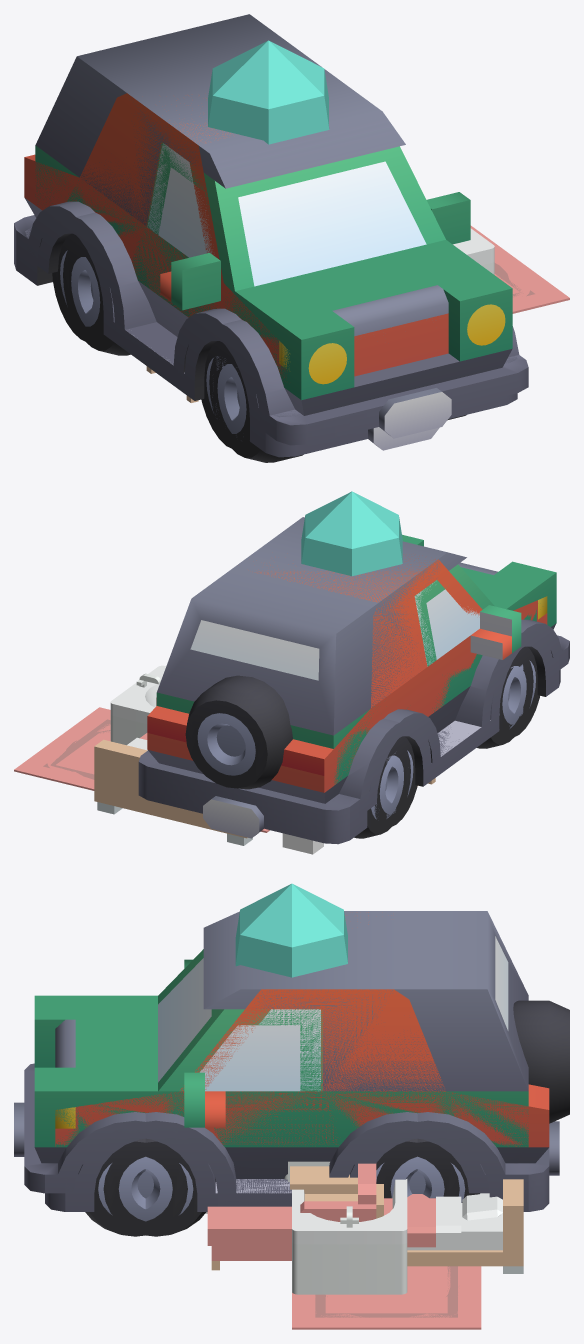
The model's file is maison.glb.
The picture shows the model from 3 angles, top to bottom: view 1: azimuth 30°, elevation 25°; view 2: azimuth 150°, elevation 25°; view 3: azimuth 270°, elevation 25°; orthographic projection. The views are drawn at different scales.
Visible parts, largest first — view 1: body (×2), tree_default, wheel-front-right (×2), wheel-back-right (×2), rugRectangle(Clone), rugRounded(Clone), bathtub(Clone); view 2: body (×2), wheel-back, tree_default, bedDouble(Clone), wheel-back-right (×2), wheel-front-right (×2), rugRectangle(Clone), bathtub(Clone), rugRounded(Clone), bathroomSink(Clone); view 3: body (×2), bathtub(Clone), wheel-front-left (×2), tree_default, rugRectangle(Clone), loungeSofaLong(Clone), bedDouble(Clone), wheel-back, wheel-back-left (×2), cover, rugRounded(Clone), desk(Clone) (+2 smaller).
Boxes of the visible parts, x1,y1,x2,y2 form: body (×2): (14, 14, 528, 457); tree_default: (208, 40, 329, 144); wheel-front-right (×2): (201, 341, 303, 462); wheel-back-right (×2): (52, 233, 130, 355); rugRectangle(Clone): (470, 225, 569, 313); rugRounded(Clone): (494, 249, 532, 305); bathtub(Clone): (453, 228, 494, 274); body (×2): (138, 517, 569, 844); wheel-back: (185, 675, 292, 789); tree_default: (301, 491, 402, 576); bedDouble(Clone): (94, 739, 252, 845); wheel-back-right (×2): (354, 736, 417, 838); wheel-front-right (×2): (477, 646, 539, 748); rugRectangle(Clone): (14, 707, 269, 832); bathtub(Clone): (110, 665, 166, 745); rugRounded(Clone): (45, 724, 110, 790); bathroomSink(Clone): (282, 833, 323, 854); body (×2): (14, 911, 559, 1211); bathtub(Clone): (292, 1179, 407, 1294); wheel-front-left (×2): (85, 1138, 215, 1236); tree_default: (235, 883, 347, 977); rugRectangle(Clone): (292, 1266, 481, 1329); loungeSofaLong(Clone): (207, 1163, 376, 1270); bedDouble(Clone): (407, 1179, 523, 1273); wheel-back: (513, 1000, 569, 1123); wheel-back-left (×2): (376, 1138, 479, 1202); cover: (384, 1194, 461, 1247); rugRounded(Clone): (295, 1266, 478, 1327); desk(Clone): (290, 1166, 357, 1193).
Bounding box in the file's own units: 2.32 × 2.06 × 2.7.
Materials: 25 (1 with a texture image).
